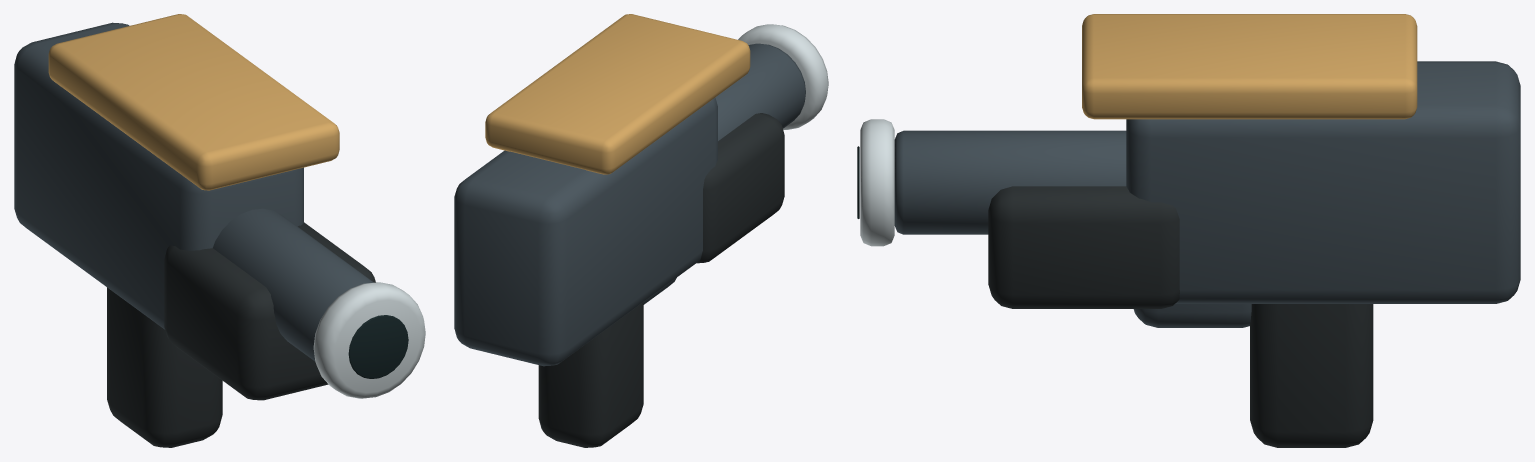
Rendered from shotgun_tight.t2.glb.
The picture shows the model from 3 angles, left to right: view 1: azimuth 30°, elevation 25°; view 2: azimuth 150°, elevation 25°; view 3: azimuth 270°, elevation 25°; orthographic projection. The views are drawn at different scales.
Visible parts, largest first — view 1: weapon_right__forged_bluelead_steel__protected, weapon_right__worn_warm_brass__protected, weapon_right__charcoal_rubber__protected, weapon_right__honed_steel_edge__protected, weapon_right__eye_socket__protected; view 2: weapon_right__forged_bluelead_steel__protected, weapon_right__worn_warm_brass__protected, weapon_right__charcoal_rubber__protected, weapon_right__honed_steel_edge__protected; view 3: weapon_right__forged_bluelead_steel__protected, weapon_right__charcoal_rubber__protected, weapon_right__worn_warm_brass__protected, weapon_right__honed_steel_edge__protected.
Boxes of the visible parts, x1=… form: weapon_right__forged_bluelead_steel__protected: x1=14, y1=22, x2=373, y2=361; weapon_right__worn_warm_brass__protected: x1=48, y1=14, x2=339, y2=190; weapon_right__charcoal_rubber__protected: x1=107, y1=222, x2=375, y2=447; weapon_right__honed_steel_edge__protected: x1=313, y1=282, x2=425, y2=398; weapon_right__eye_socket__protected: x1=348, y1=315, x2=408, y2=378; weapon_right__forged_bluelead_steel__protected: x1=454, y1=43, x2=805, y2=366; weapon_right__worn_warm_brass__protected: x1=485, y1=14, x2=750, y2=174; weapon_right__charcoal_rubber__protected: x1=538, y1=113, x2=784, y2=447; weapon_right__honed_steel_edge__protected: x1=738, y1=24, x2=828, y2=129; weapon_right__forged_bluelead_steel__protected: x1=894, y1=61, x2=1520, y2=327; weapon_right__charcoal_rubber__protected: x1=988, y1=186, x2=1373, y2=447; weapon_right__worn_warm_brass__protected: x1=1082, y1=14, x2=1417, y2=119; weapon_right__honed_steel_edge__protected: x1=860, y1=119, x2=894, y2=246.
Bounding box in the file's own units: 0.1575 × 0.3937 × 0.6057.
